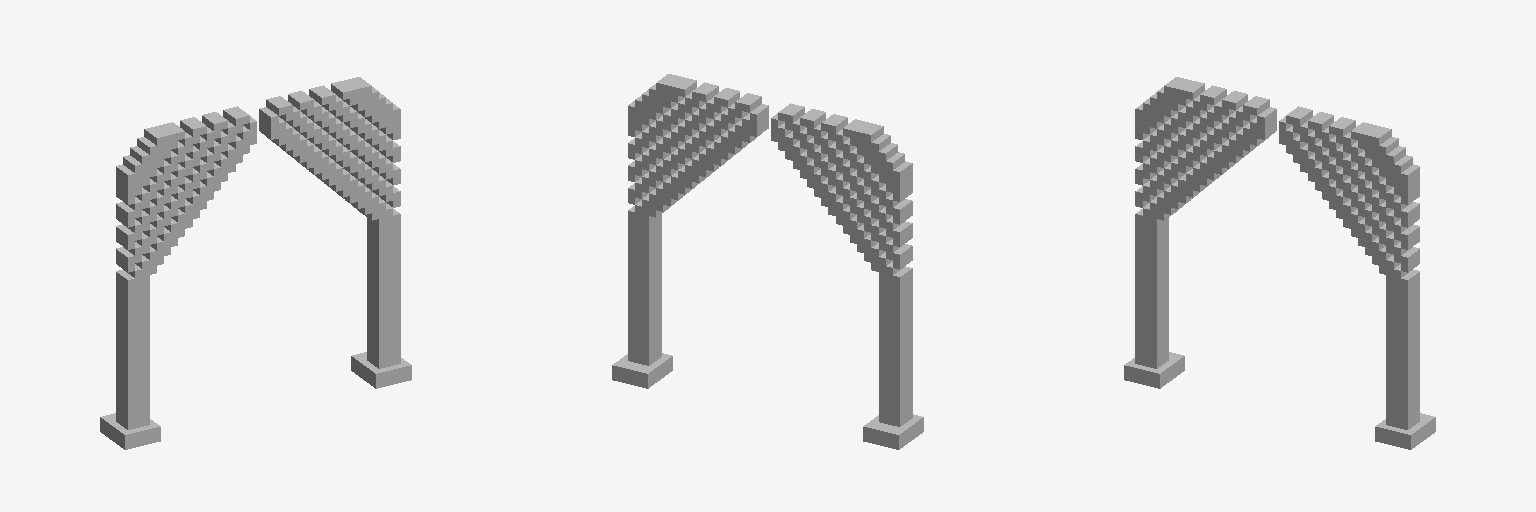
The model's file is column2.obj.
3 renders of one model, left to right at view 1: azimuth 30°, elevation 25°; view 2: azimuth 150°, elevation 25°; view 3: azimuth 330°, elevation 25°, orthographic.
Visible parts, largest first — view 1: column2; view 2: column2; view 3: column2.
Part boxes in pixels (bbox=[...]): column2: bbox=[100, 77, 411, 449]; column2: bbox=[612, 74, 923, 449]; column2: bbox=[1124, 77, 1435, 449].
Bounding box in the file's own units: 40 × 40 × 6.